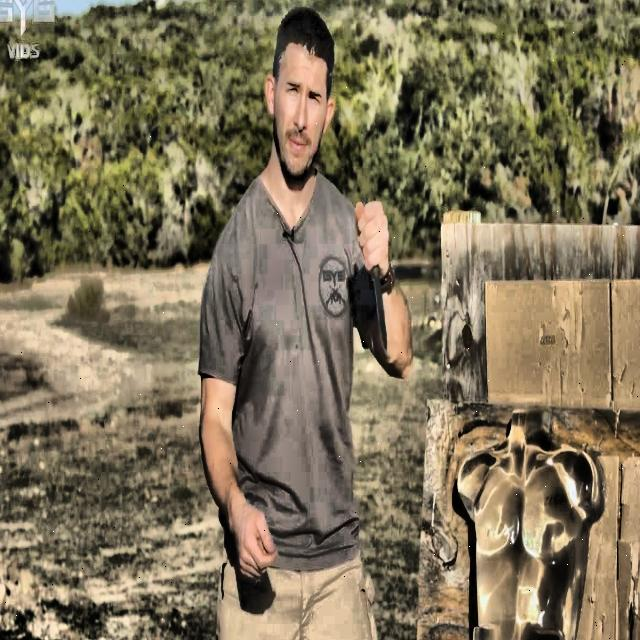knife: (372, 268, 388, 351)
